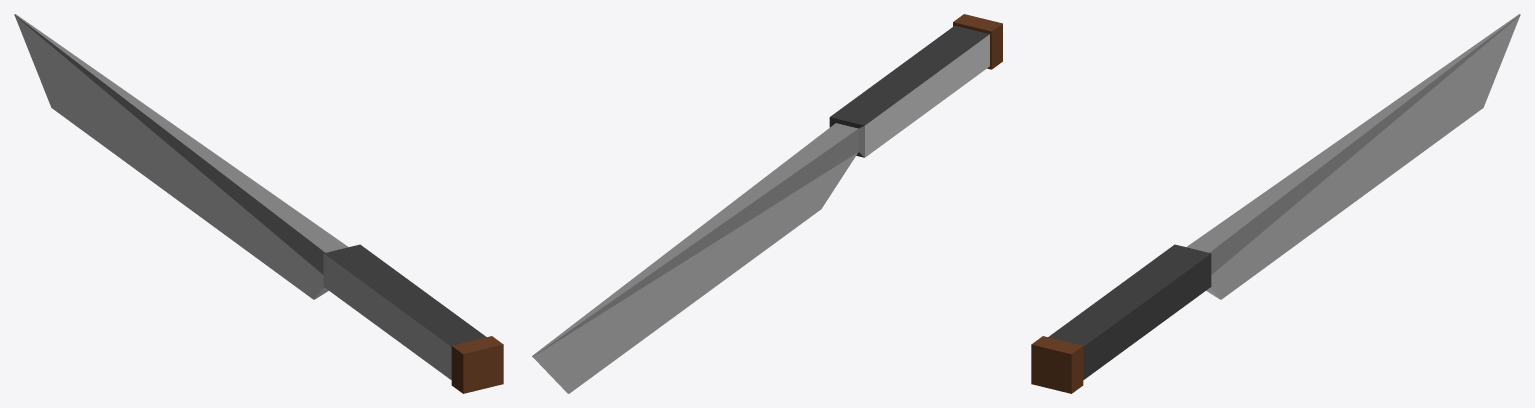
File: Res01_Knife2.fbx
3 renders of one model, left to right at view 1: azimuth 30°, elevation 25°; view 2: azimuth 150°, elevation 25°; view 3: azimuth 330°, elevation 25°, orthographic. The views are drawn at different scales.
Parts seen in each view (by area): view 1: Res01_Knife2; view 2: Res01_Knife2; view 3: Res01_Knife2.
Part boxes in pixels (x1,y1,x2,y2): Res01_Knife2: (14, 14, 503, 393); Res01_Knife2: (532, 14, 1002, 393); Res01_Knife2: (1031, 14, 1520, 393).
Bounding box in the file's own units: 4.23 × 7.43 × 85.21.
